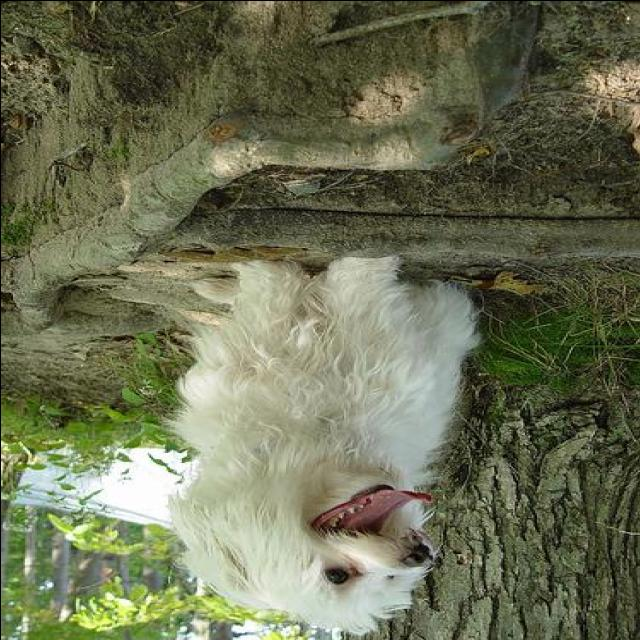maltese_dog: (166, 260, 477, 638)
